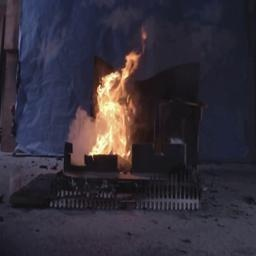fire: (93, 31, 147, 159)
